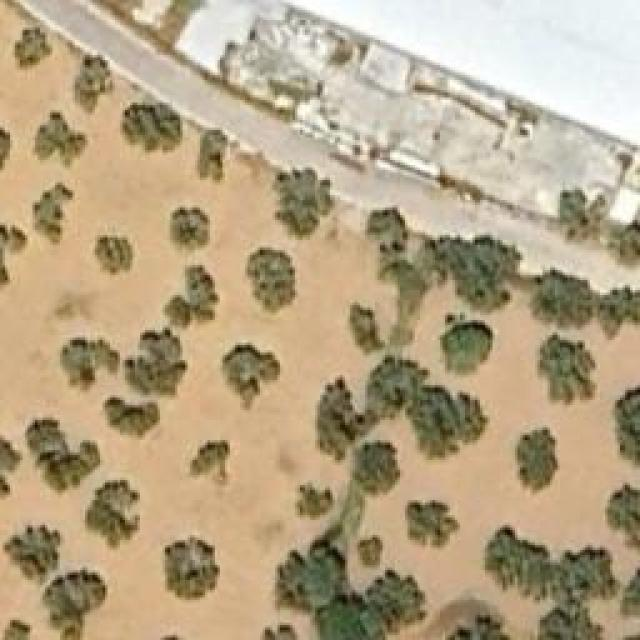Tree: (425, 233, 510, 308), (25, 418, 100, 493), (415, 388, 488, 461), (273, 168, 338, 241), (43, 570, 108, 640), (538, 333, 598, 408), (280, 550, 343, 618), (485, 530, 553, 593), (220, 345, 280, 413), (85, 480, 140, 550), (533, 268, 596, 328), (165, 535, 220, 603), (5, 523, 63, 583), (320, 383, 365, 458), (440, 313, 493, 376), (130, 330, 180, 393), (247, 248, 295, 313), (318, 592, 383, 640), (35, 110, 88, 168), (515, 427, 560, 495), (120, 102, 183, 150), (365, 355, 420, 408), (402, 500, 460, 550), (62, 337, 120, 385), (563, 188, 613, 243), (535, 600, 603, 640), (33, 183, 76, 246), (368, 578, 421, 628), (342, 300, 387, 358), (352, 443, 400, 496), (360, 207, 413, 255), (102, 398, 160, 438), (75, 53, 113, 113), (610, 385, 638, 463), (607, 485, 640, 550), (0, 220, 28, 293), (170, 208, 213, 253), (603, 285, 638, 335), (93, 235, 133, 278), (15, 28, 53, 73), (198, 128, 228, 183), (185, 260, 213, 318), (190, 440, 230, 478), (298, 485, 333, 518), (0, 617, 37, 640), (358, 538, 383, 568), (168, 297, 188, 325)
